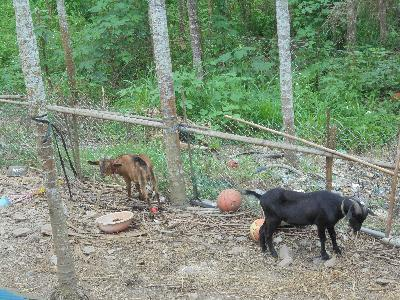bowl: (94, 210, 134, 233)
